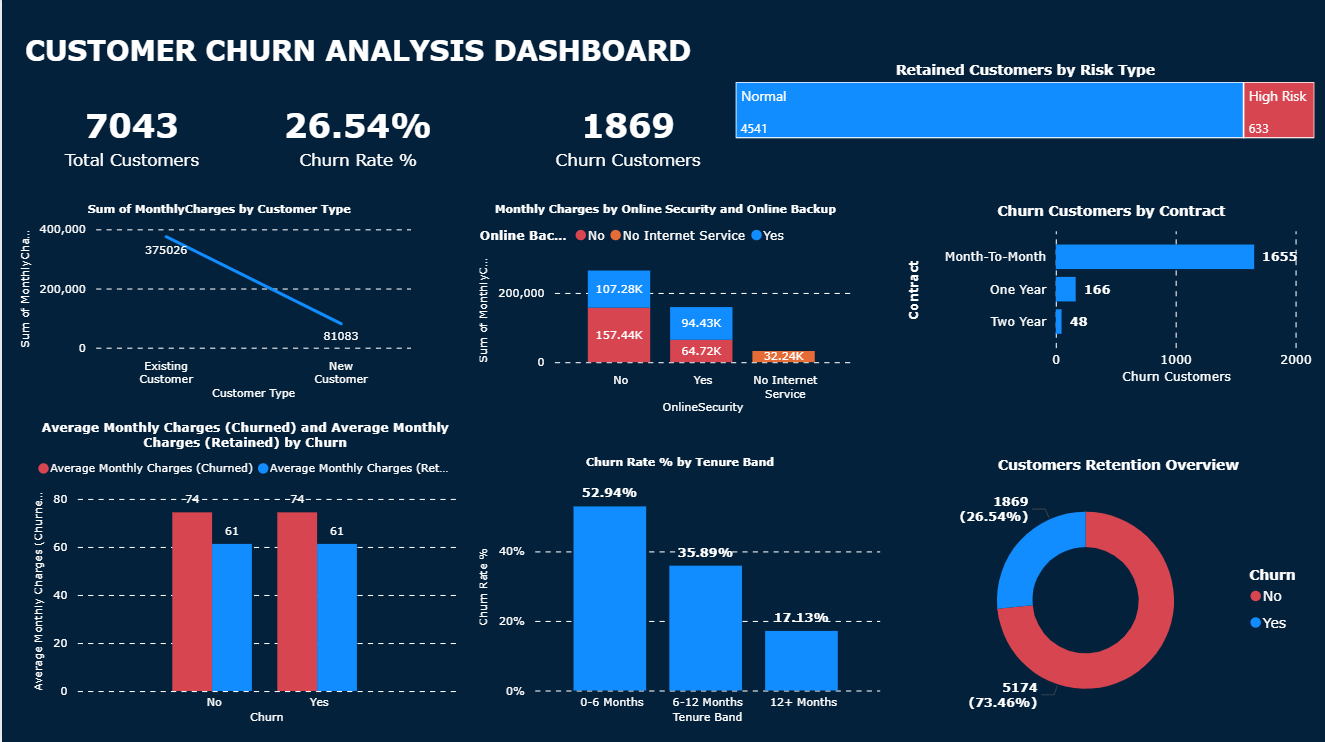

The dashboard page shown, as its layout file describes it:
{"tool":"powerbi","page":{"name":"Customer Churn Analysis","canvas":[1280,720],"ordinal":0},"visuals":[{"type":"textbox","title":"CUSTOMER CHURN ANALYSIS DASHBOARD","box":[13.3,28.4,660.6,59.4],"z":0},{"type":"treemap","fields":{"Values":["Calculated_Measures.Retained Customers"],"Group":["telco_churn_unclean.Risk Type"]},"box":[703.5,60,568.6,79.9],"z":1000},{"type":"card","fields":{"Values":["Calculated_Measures.Total Customers"]},"box":[26,87.9,197.8,89.9],"z":2000},{"type":"card","fields":{"Values":["Calculated_Measures.Churn Rate %"]},"box":[244.8,87.9,197.8,89.9],"z":3000},{"type":"card","fields":{"Values":["Calculated_Measures.Churn Customers"]},"box":[505.6,87.9,197.8,89.9],"z":4000},{"type":"donutChart","title":"Customers Retention Overview","fields":{"Category":["telco_churn_unclean.Churn"],"Y":["Calculated_Measures.Total Customers"]},"box":[883.3,441.7,388.7,263.8],"z":5000},{"type":"barChart","fields":{"Category":["telco_churn_unclean.Contract"],"Y":["Calculated_Measures.Churn Customers"]},"box":[870.3,196.8,401.7,180.9],"z":6000},{"type":"columnChart","title":"Monthly Charges by Online Security and Online Backup","fields":{"Category":["telco_churn_unclean.OnlineSecurity"],"Y":["Sum(telco_churn_unclean.MonthlyCharges)"],"Series":["telco_churn_unclean.OnlineBackup"]},"box":[455.6,196.8,368.7,209.8],"z":7000},{"type":"columnChart","fields":{"Y":["Calculated_Measures.Churn Rate %"],"Category":["telco_churn_unclean.Tenure Band"]},"box":[455.6,441.7,396.7,263.8],"z":8000},{"type":"clusteredColumnChart","fields":{"Y":["Calculated_Measures.Average Monthly Charges (Churned)","Calculated_Measures.Average Monthly Charges (Retained)"],"Category":["telco_churn_unclean.Churn"]},"box":[26,406.7,416.7,298.8],"z":9000},{"type":"lineChart","fields":{"Y":["Sum(telco_churn_unclean.MonthlyCharges)"],"Category":["telco_churn_unclean.Customer Type"]},"box":[13,196.8,392.7,195.8],"z":10000}]}

Visuals, with their boxes in screenshot pixels (x1, y1, x2, y2), scaled from the page's 1280x720 canvas onto the 1325x742 screenshot:
"CUSTOMER CHURN ANALYSIS DASHBOARD" textbox: bbox=[14, 29, 698, 90]
treemap - Calculated_Measures.Retained Customers x telco_churn_unclean.Risk Type: bbox=[728, 62, 1317, 144]
card - Calculated_Measures.Total Customers: bbox=[27, 91, 232, 183]
card - Calculated_Measures.Churn Rate %: bbox=[253, 91, 458, 183]
card - Calculated_Measures.Churn Customers: bbox=[523, 91, 728, 183]
"Customers Retention Overview" donutChart: bbox=[914, 455, 1317, 727]
barChart - telco_churn_unclean.Contract x Calculated_Measures.Churn Customers: bbox=[901, 203, 1317, 389]
"Monthly Charges by Online Security and Online Backup" columnChart: bbox=[472, 203, 853, 419]
columnChart - Calculated_Measures.Churn Rate % x telco_churn_unclean.Tenure Band: bbox=[472, 455, 882, 727]
clusteredColumnChart - Calculated_Measures.Average Monthly Charges (Churned) x Calculated_Measures.Average Monthly Charges (Retained): bbox=[27, 419, 458, 727]
lineChart - Sum(telco_churn_unclean.MonthlyCharges) x telco_churn_unclean.Customer Type: bbox=[13, 203, 420, 405]
